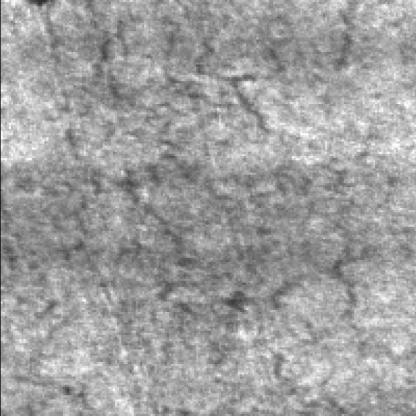crazing: (108, 162, 354, 379), (58, 25, 283, 156)
